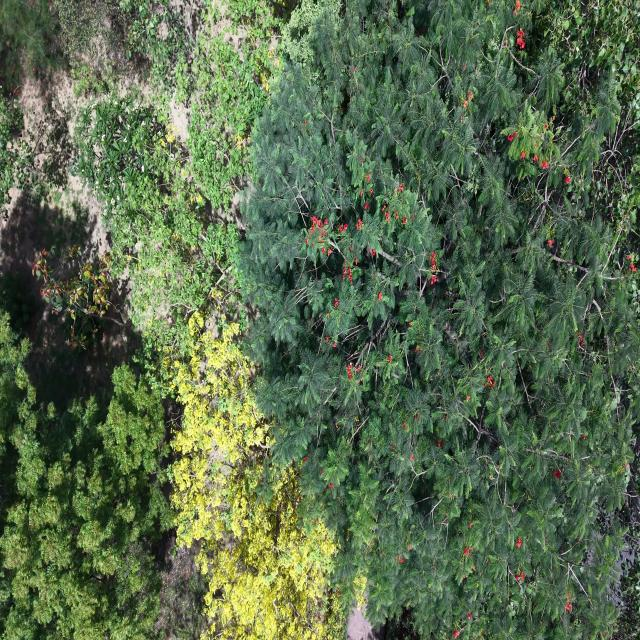DRY_AREA: (347, 608, 386, 639)
VEGETATION_TREE: (0, 0, 639, 639), (243, 0, 638, 637), (76, 3, 344, 638), (75, 0, 278, 387), (0, 238, 172, 638), (172, 314, 344, 639), (0, 315, 171, 639), (76, 97, 238, 380), (534, 2, 639, 265), (534, 2, 639, 262), (176, 0, 280, 217), (54, 0, 202, 101), (0, 86, 70, 221), (114, 0, 206, 102), (32, 245, 115, 348), (0, 312, 34, 534), (0, 0, 58, 94), (0, 313, 32, 467), (0, 94, 33, 217), (55, 0, 123, 59), (282, 0, 339, 65), (0, 272, 34, 334), (615, 554, 639, 639)
